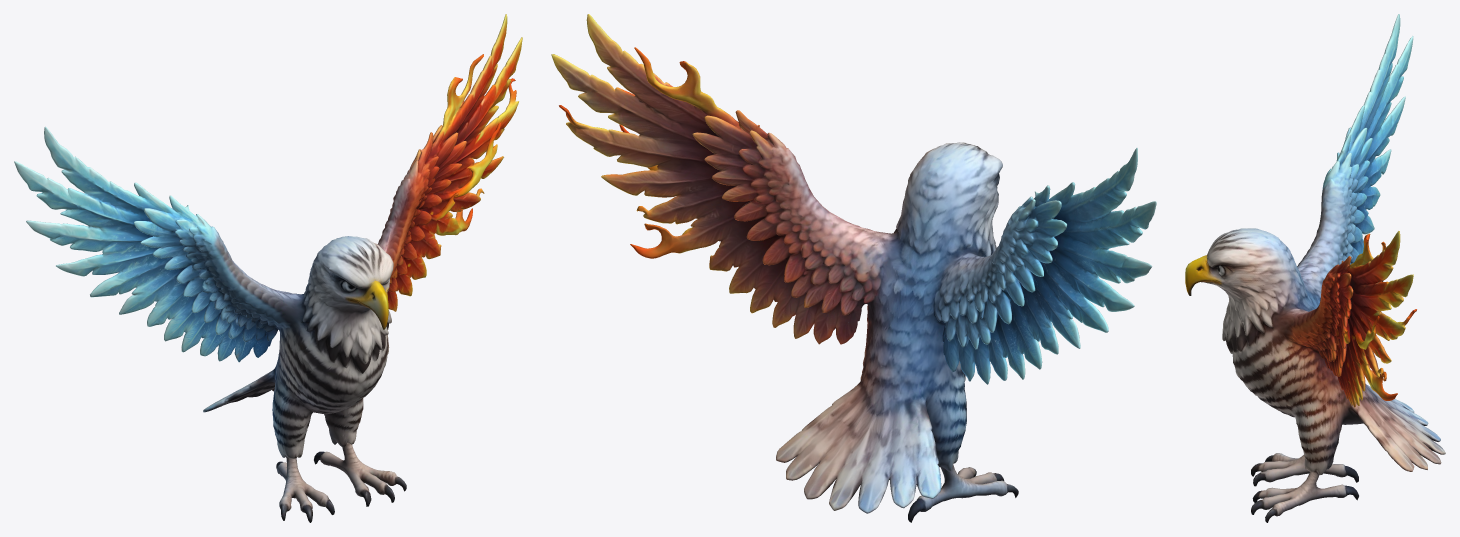
The model's file is elang_belang.glb.
The picture shows the model from 3 angles, left to right: view 1: azimuth 30°, elevation 25°; view 2: azimuth 150°, elevation 25°; view 3: azimuth 270°, elevation 25°; orthographic projection. The views are drawn at different scales.
Visible parts, largest first — view 1: tripo_node_0e77b20d-99f7-4a38-9fdc-18a8f1a71652; view 2: tripo_node_0e77b20d-99f7-4a38-9fdc-18a8f1a71652; view 3: tripo_node_0e77b20d-99f7-4a38-9fdc-18a8f1a71652.
Part boxes in pixels (x1,y1,x2,y2): tripo_node_0e77b20d-99f7-4a38-9fdc-18a8f1a71652: [14, 14, 522, 522]; tripo_node_0e77b20d-99f7-4a38-9fdc-18a8f1a71652: [551, 14, 1156, 522]; tripo_node_0e77b20d-99f7-4a38-9fdc-18a8f1a71652: [1185, 14, 1445, 522].
Bounding box in the file's own units: 1 × 0.7276 × 0.4597.
1 material, 1 textured.
